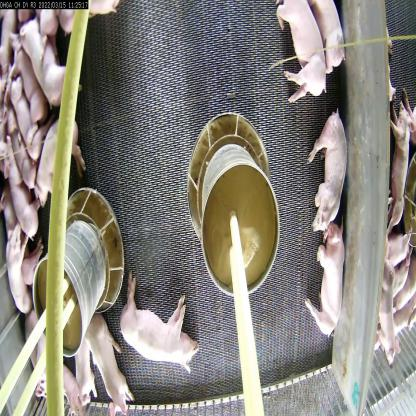Pig: (123, 260, 203, 378), (266, 0, 331, 117), (309, 111, 352, 245), (21, 13, 78, 110), (87, 306, 136, 414), (31, 121, 90, 203), (0, 136, 46, 236), (309, 230, 346, 346), (296, 0, 349, 70), (2, 214, 33, 312)
